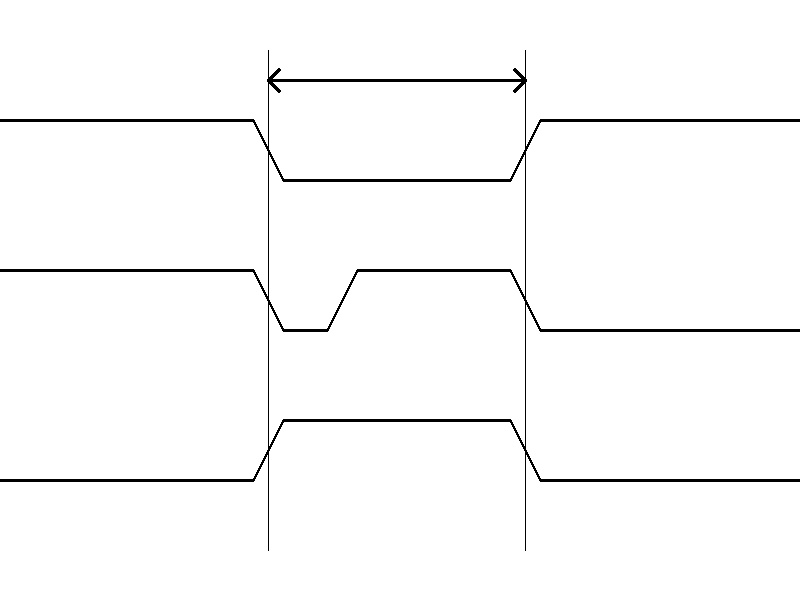double_arrow: (268, 65, 525, 95)
